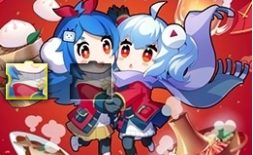gap: (69, 61, 111, 99)
